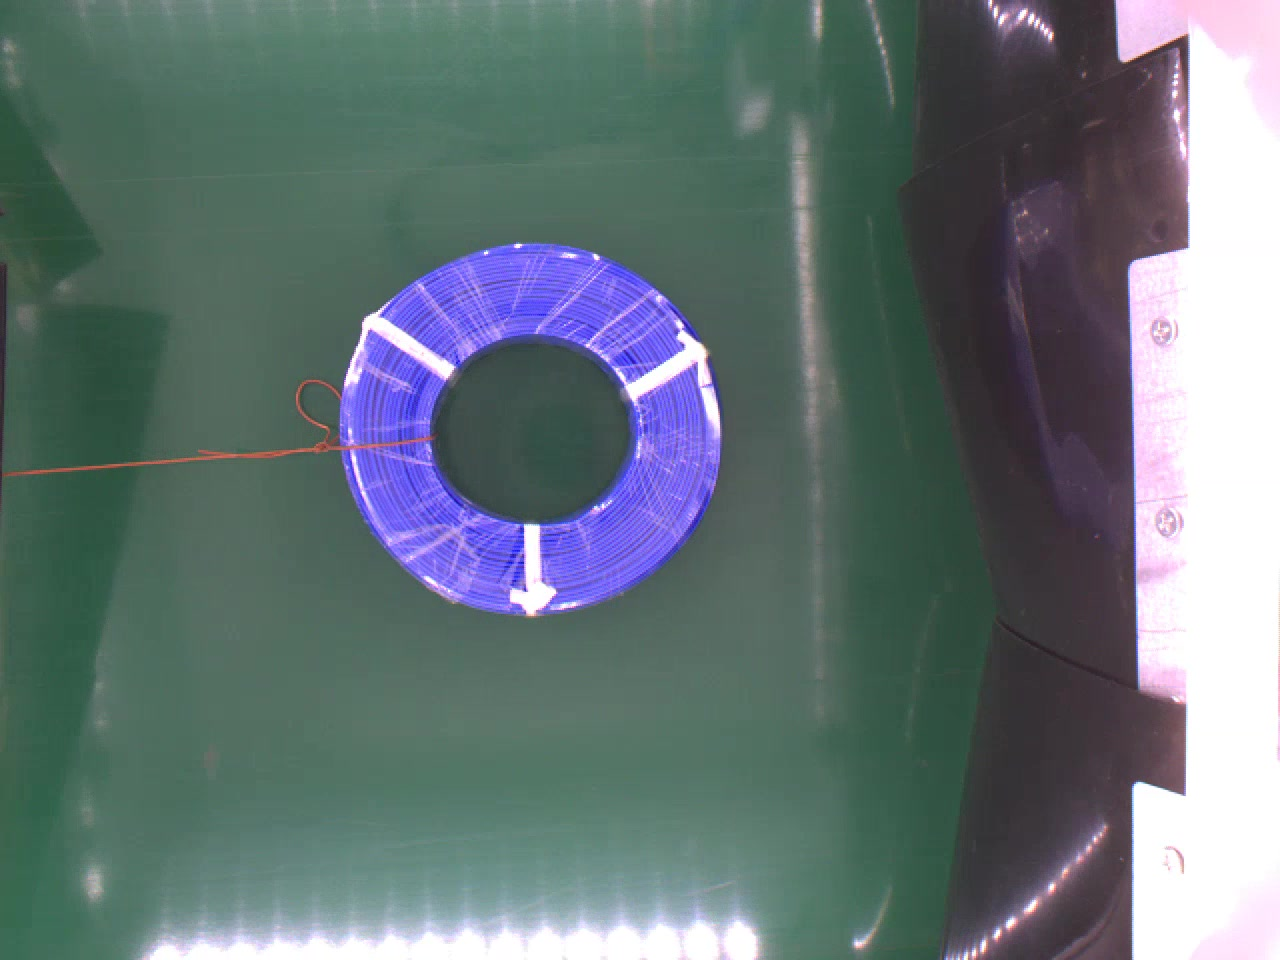blue: (335, 242, 724, 617)
